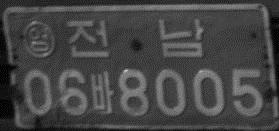0: (153, 67, 186, 117), (192, 68, 225, 117), (23, 68, 54, 117)
5: (231, 67, 263, 117)
6: (57, 68, 88, 117)
8: (117, 67, 149, 116)
바: (88, 70, 114, 114)
영: (22, 19, 56, 59)
전남_D: (65, 18, 206, 59)
